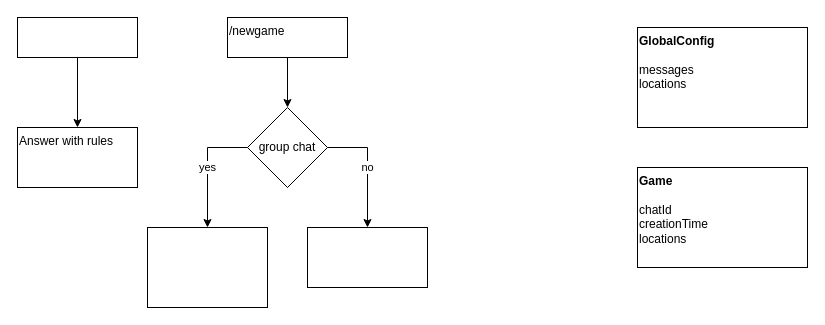
Image size: 825x325. Some labels were removed from this diagram. Here are the shapes that lost their labels. From the top down, the centre of each, then its label:
At (77,37): "/rules".
At (207,267): "Sent locations. Ask players to get location from private message".
At (367,257): "Message howToUse".
